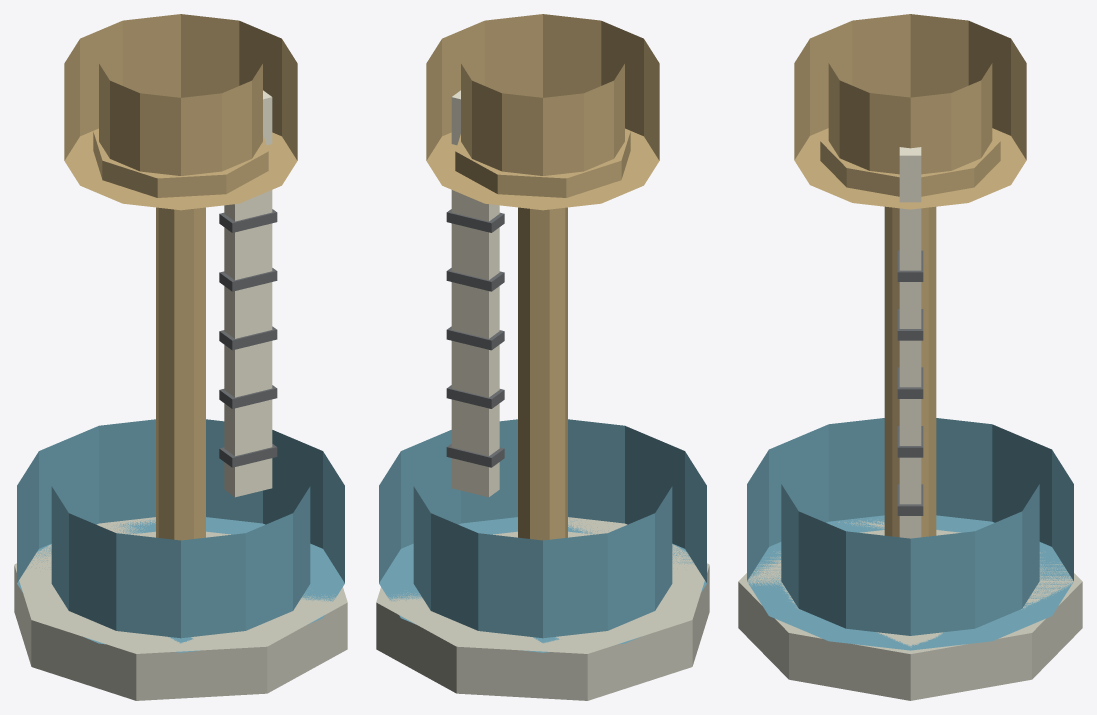
The model's file is tidal-water-clock__265.glb.
3 renders of one model, left to right at view 1: azimuth 30°, elevation 25°; view 2: azimuth 150°, elevation 25°; view 3: azimuth 270°, elevation 25°, orthographic.
Visible parts, largest first — view 1: tidal-observatory-clepsydra; view 2: tidal-observatory-clepsydra; view 3: tidal-observatory-clepsydra.
Boxes of the visible parts, <box> form: tidal-observatory-clepsydra: <box>14,14,347,700</box>; tidal-observatory-clepsydra: <box>376,14,709,700</box>; tidal-observatory-clepsydra: <box>738,14,1082,700</box>.
Size of the model in its own units: 0.8 by 1.45 by 0.8.
